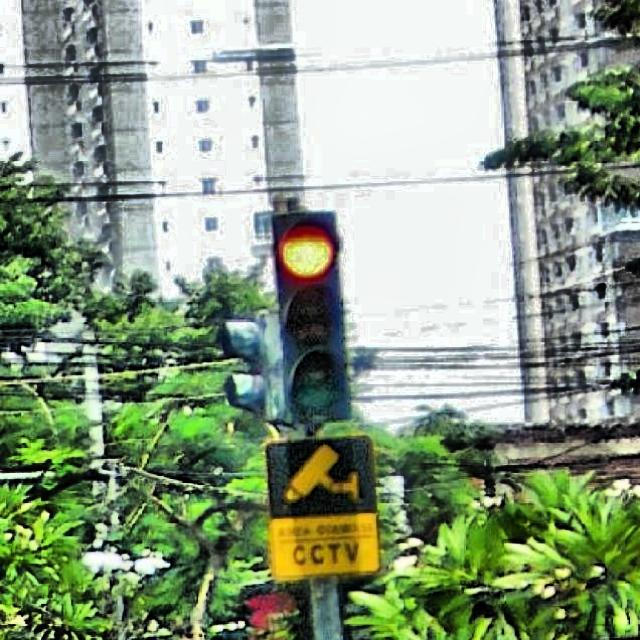red: (268, 210, 350, 428)
